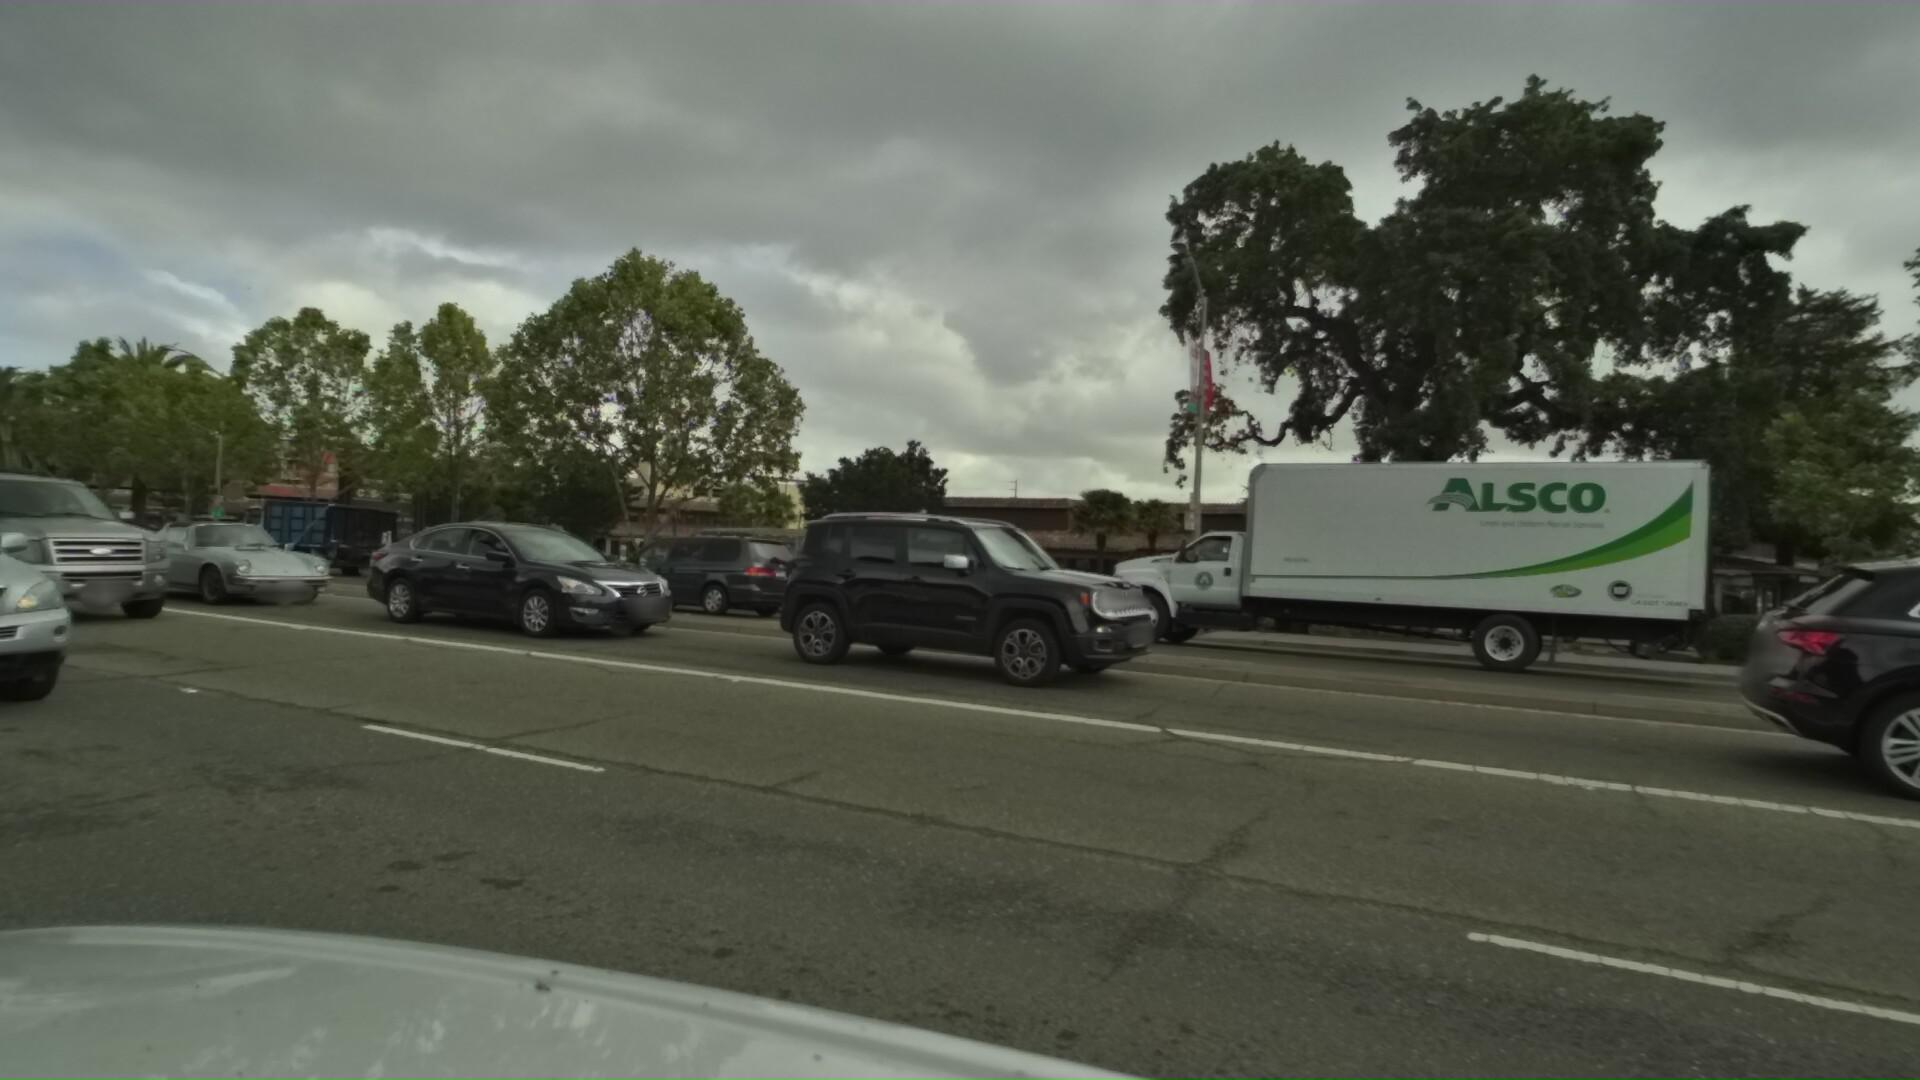car: (1647, 527, 1920, 911), (719, 497, 1139, 699), (322, 508, 673, 649), (0, 450, 206, 626), (0, 436, 117, 742), (79, 508, 334, 612), (563, 524, 790, 618), (0, 495, 132, 578)
truck: (1054, 440, 1672, 691), (215, 488, 396, 568)
